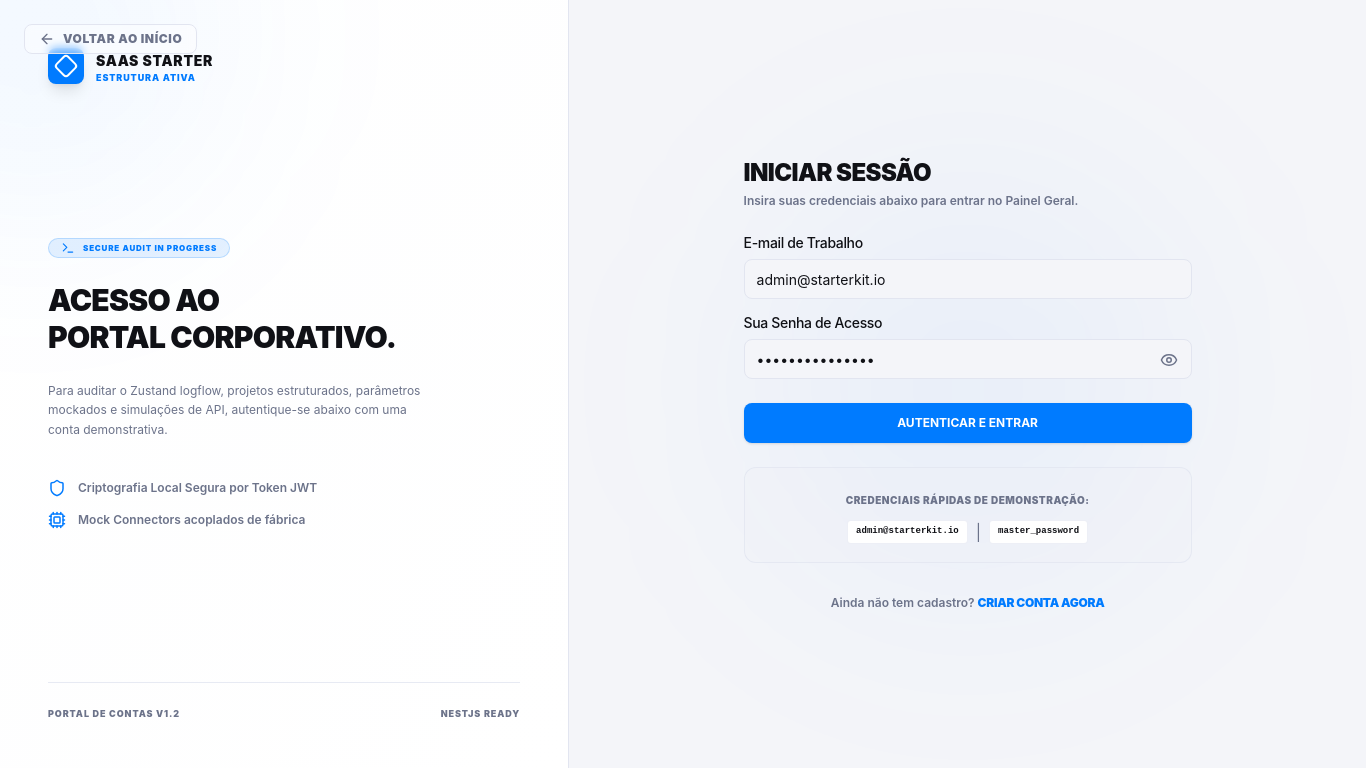
it: AuthShowcase forms › validates login credentials before starting the mock session
Clear the field labelled "E-mail de Trabalho" at point(968, 279), box [744,259,1192,299]
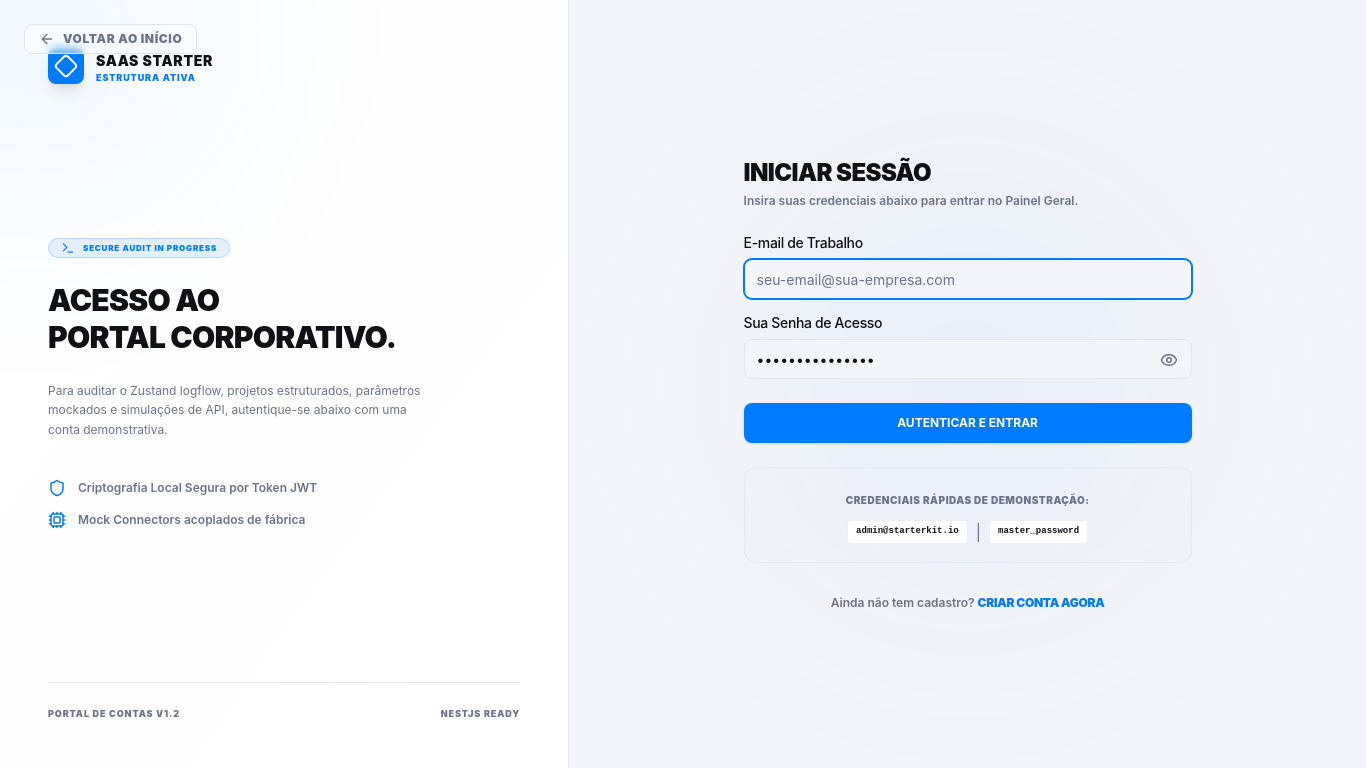
Clear the password field labelled "Sua Senha de Acesso" at point(968, 359), box [744,339,1192,379]
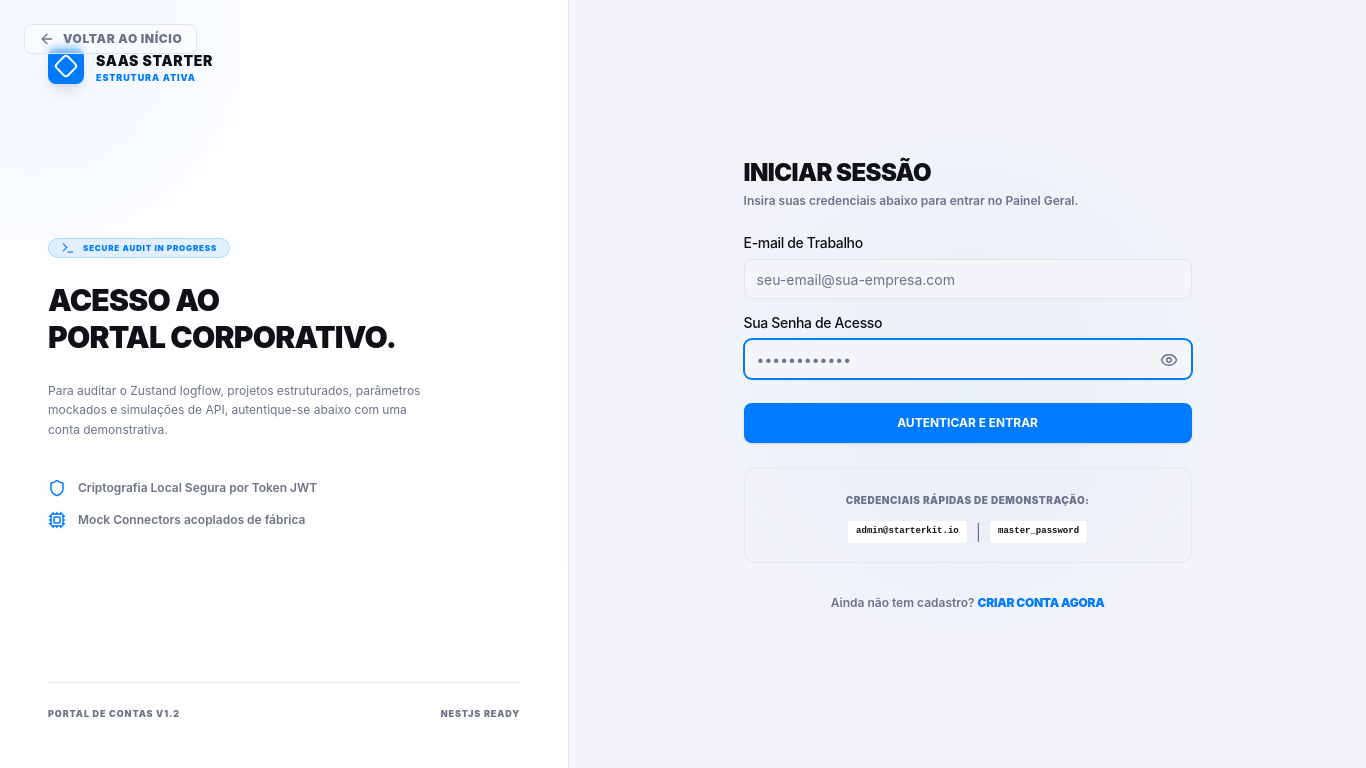
Click the button "Autenticar e Entrar" at point(968, 423), box [744,403,1192,443]
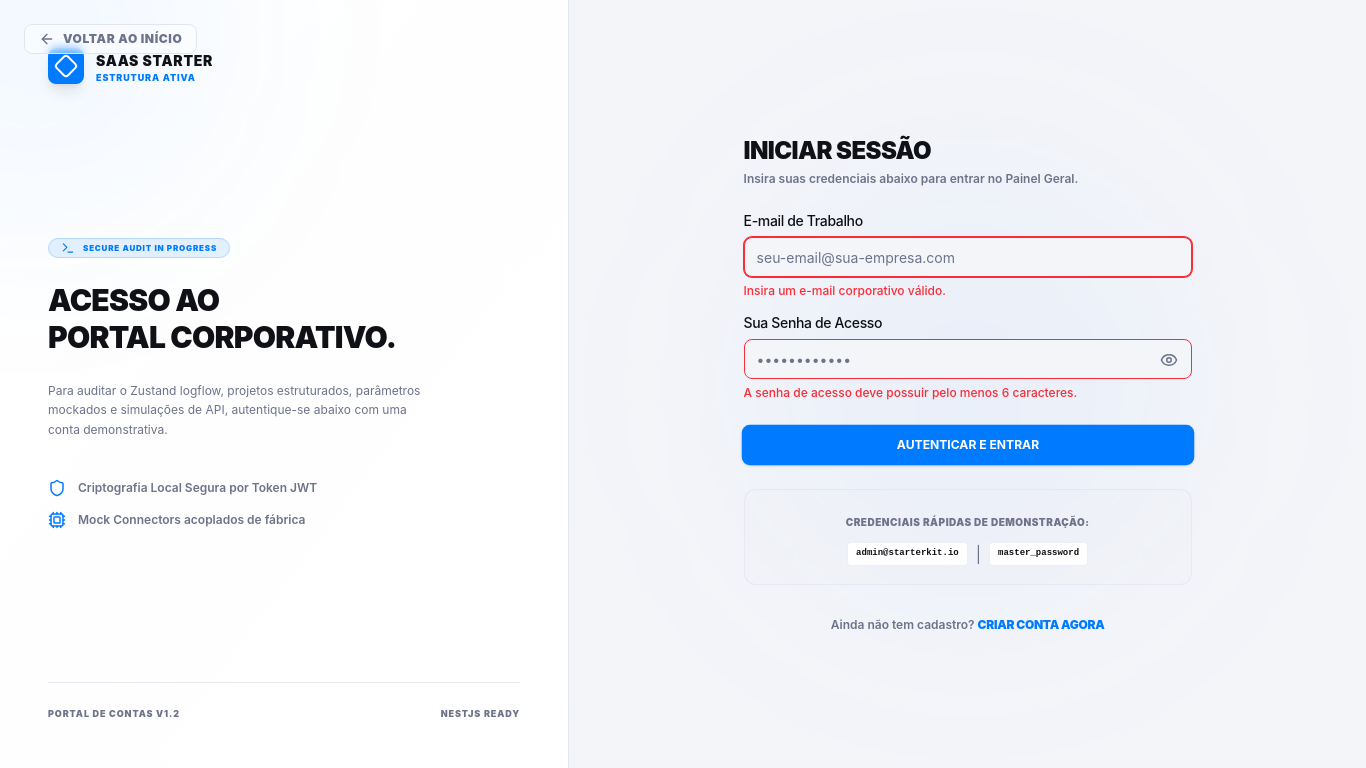
Now the text "Insira um e-mail corporativo válido." is shown, box [744,283,946,298]
Now the text "A senha de acesso deve possuir pelo menos 6 caracteres." is shown, box [744,385,1077,400]
